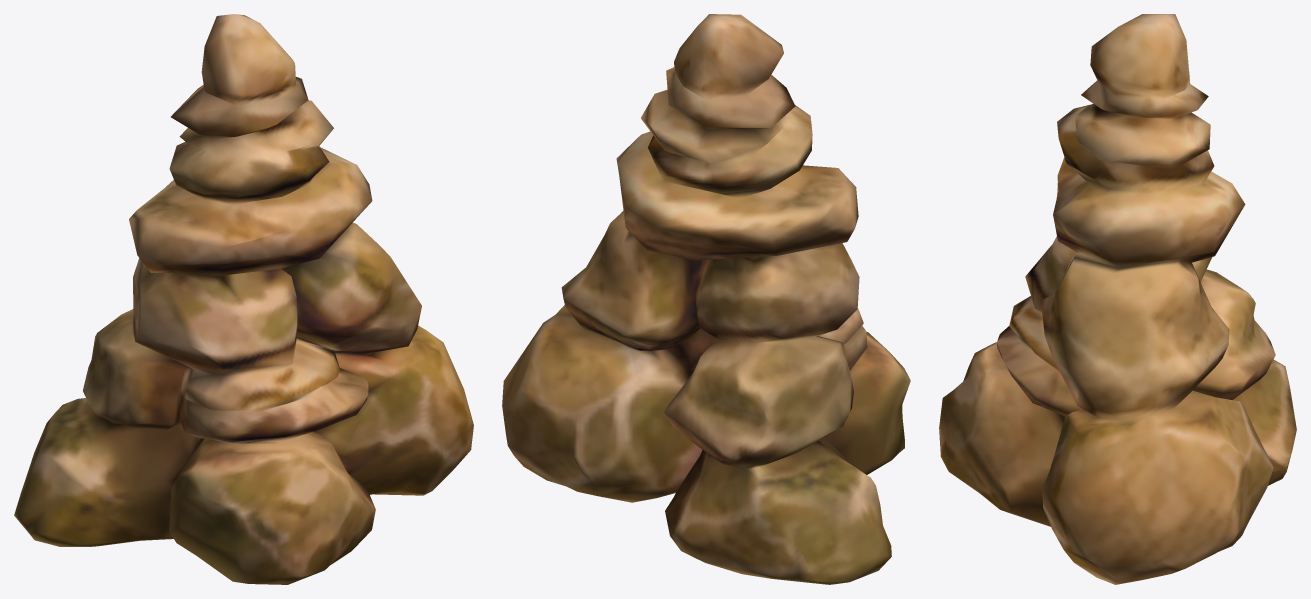
The model's file is Piedras_Apiladas_Peque_as.glb.
The picture shows the model from 3 angles, left to right: view 1: azimuth 30°, elevation 25°; view 2: azimuth 150°, elevation 25°; view 3: azimuth 270°, elevation 25°; orthographic projection.
Visible parts, largest first — view 1: Piedras Apiladas Pequeñas; view 2: Piedras Apiladas Pequeñas; view 3: Piedras Apiladas Pequeñas.
Part boxes in pixels (bbox=[...]): Piedras Apiladas Pequeñas: bbox=[14, 14, 473, 584]; Piedras Apiladas Pequeñas: bbox=[502, 14, 910, 584]; Piedras Apiladas Pequeñas: bbox=[939, 14, 1296, 584].
Bounding box in the file's own units: 0.1167 × 0.1392 × 0.0924.
Materials: 1 (1 with a texture image).
